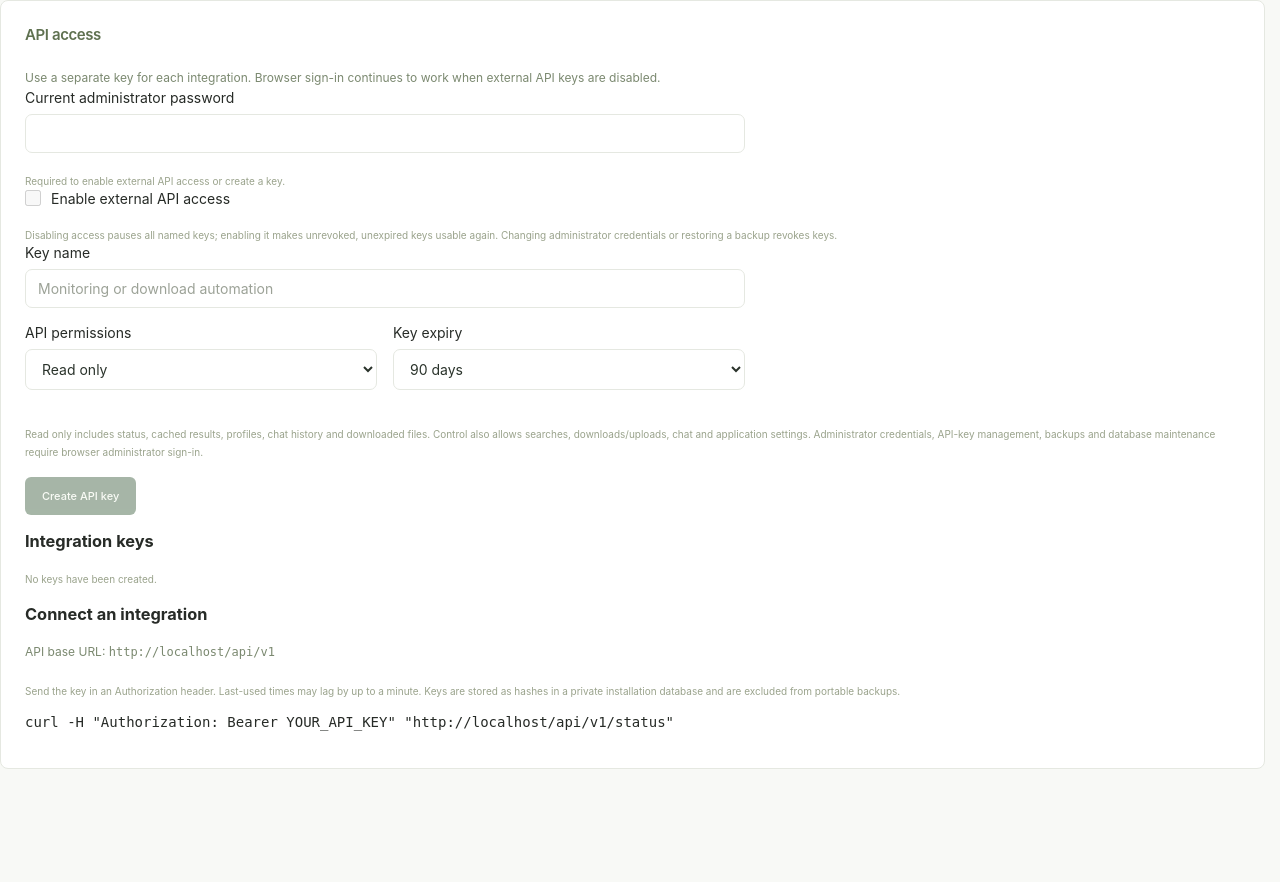
Scenario: configures access, creates a scoped expiring key shown once and revokes it
The width and height of the screenshot is (1280, 882).
Expected: the text "No keys have been created." is shown, top-left (25, 573), bottom-right (157, 585)
Expected: the button "Create API key" is disabled, top-left (25, 477), bottom-right (136, 515)
In the password field labelled "Current administrator password": (385, 133) top-left (25, 114), bottom-right (745, 153), type "eightpwd"
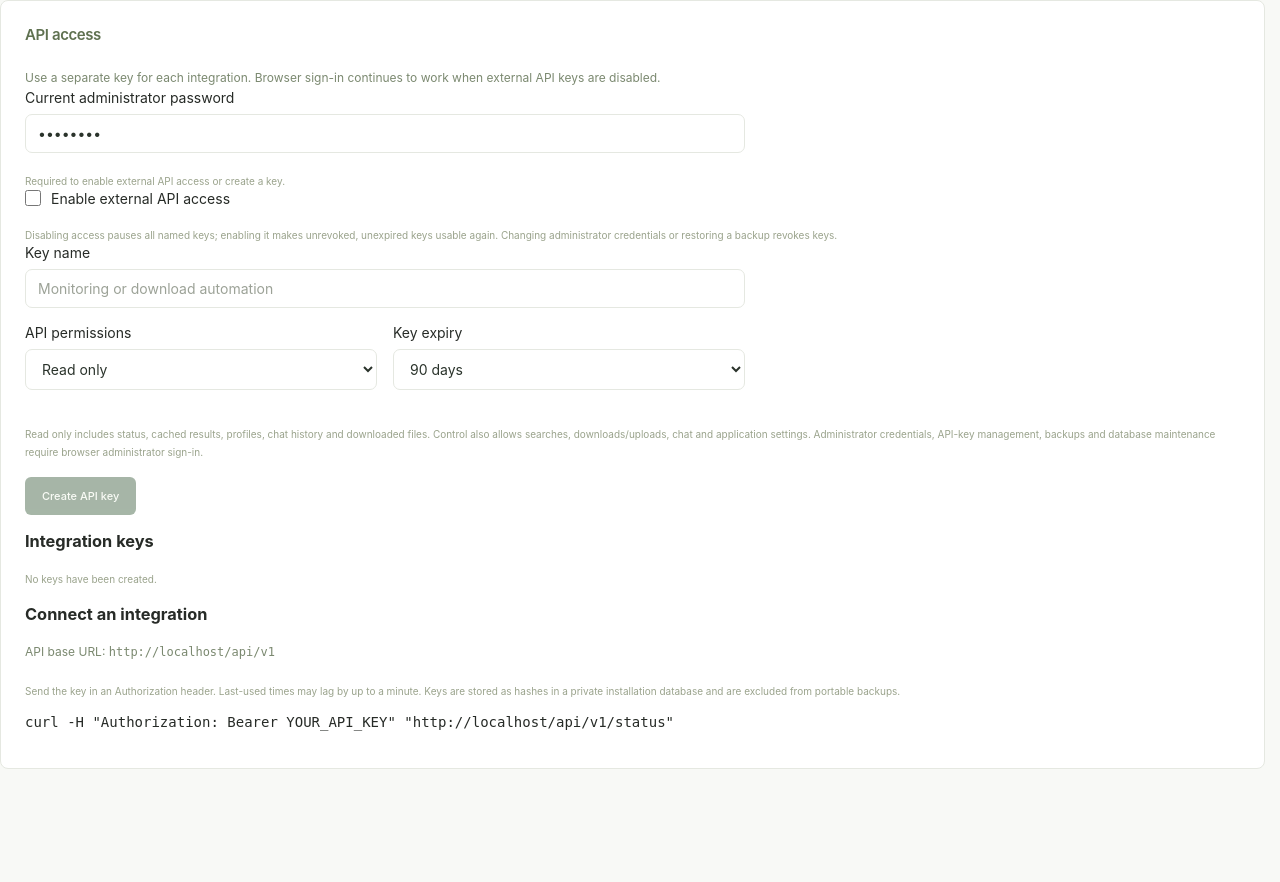
Click the checkbox labelled "Enable external API access": (33, 198) top-left (25, 190), bottom-right (41, 206)
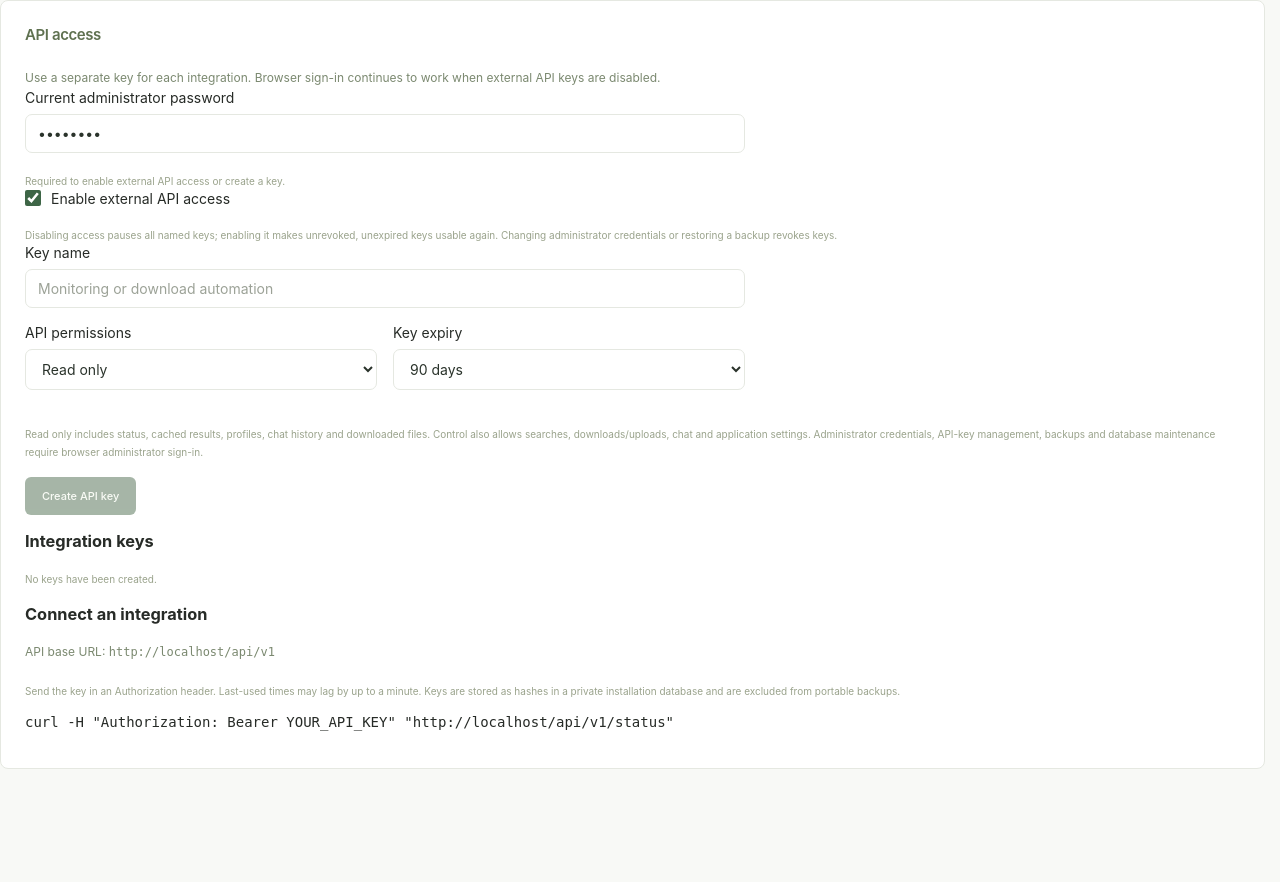
Expected: the checkbox labelled "Enable external API access" is checked, top-left (25, 190), bottom-right (41, 206)
In the field labelled "Key name": (385, 288) top-left (25, 269), bottom-right (745, 308), type "Monitoring"
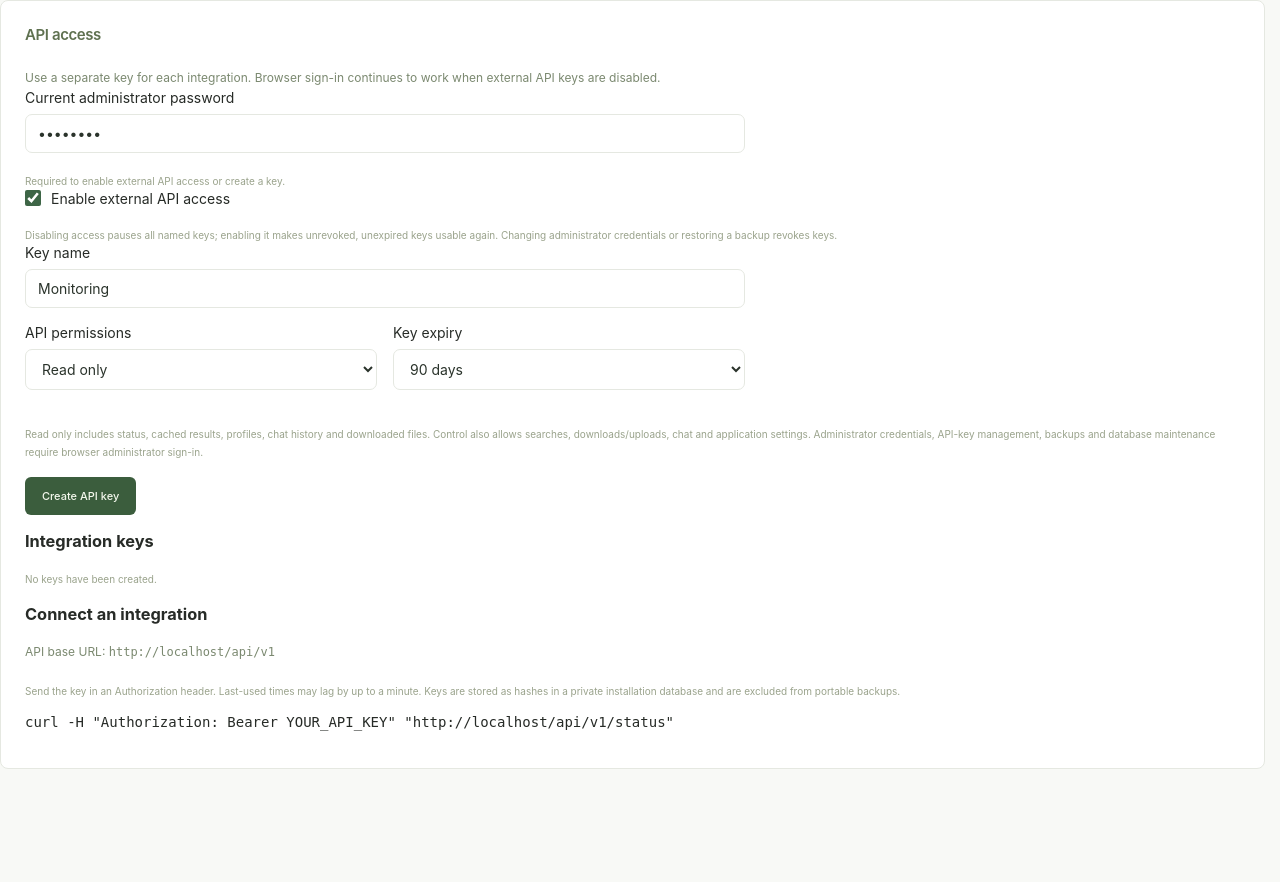
Click the button "Create API key": (81, 496) top-left (25, 477), bottom-right (136, 515)
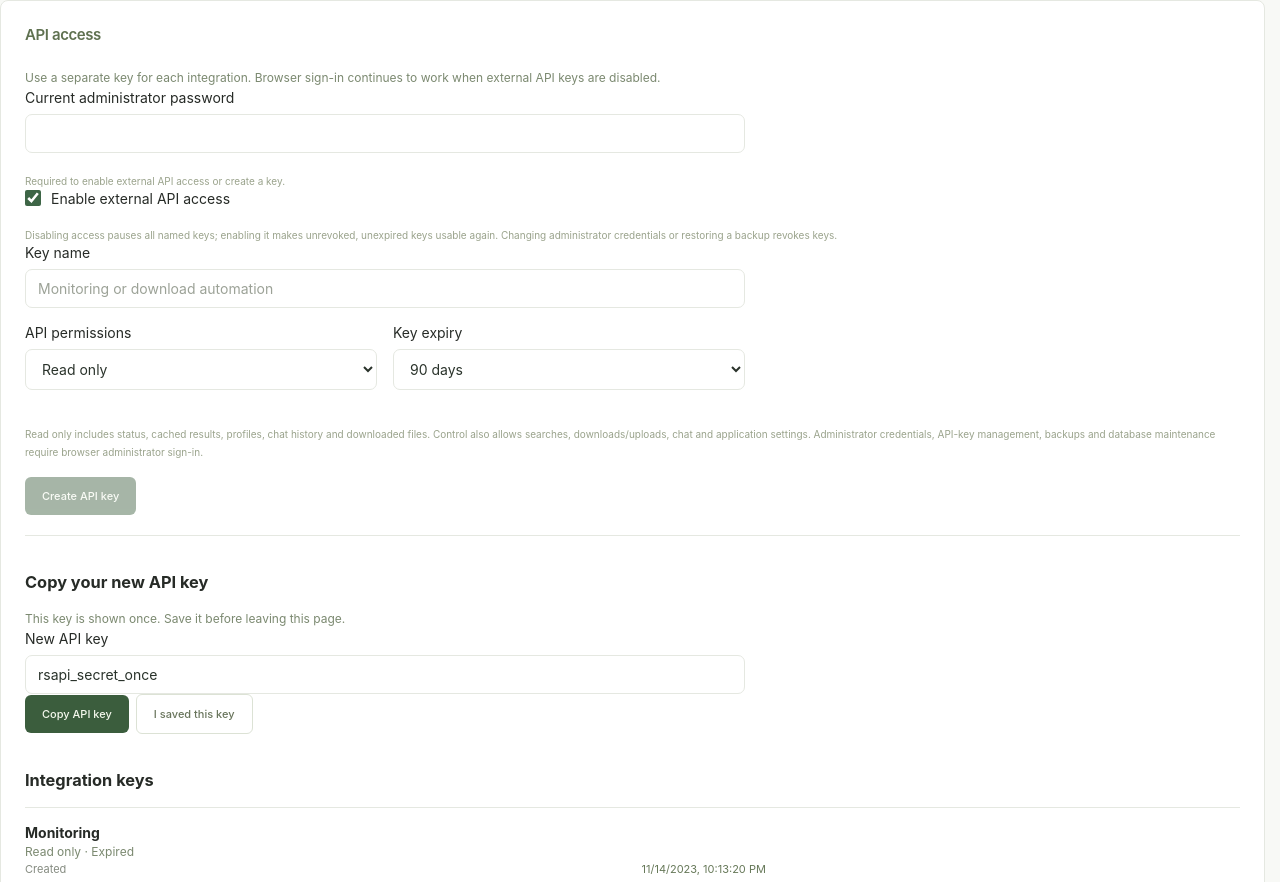
Expected: the field labelled "New API key" holds "rsapi_secret_once", top-left (25, 655), bottom-right (745, 694)
Expected: the password field labelled "Current administrator password" is empty, top-left (25, 114), bottom-right (745, 153)
Click the button "I saved this key": (194, 714) top-left (136, 694), bottom-right (252, 734)
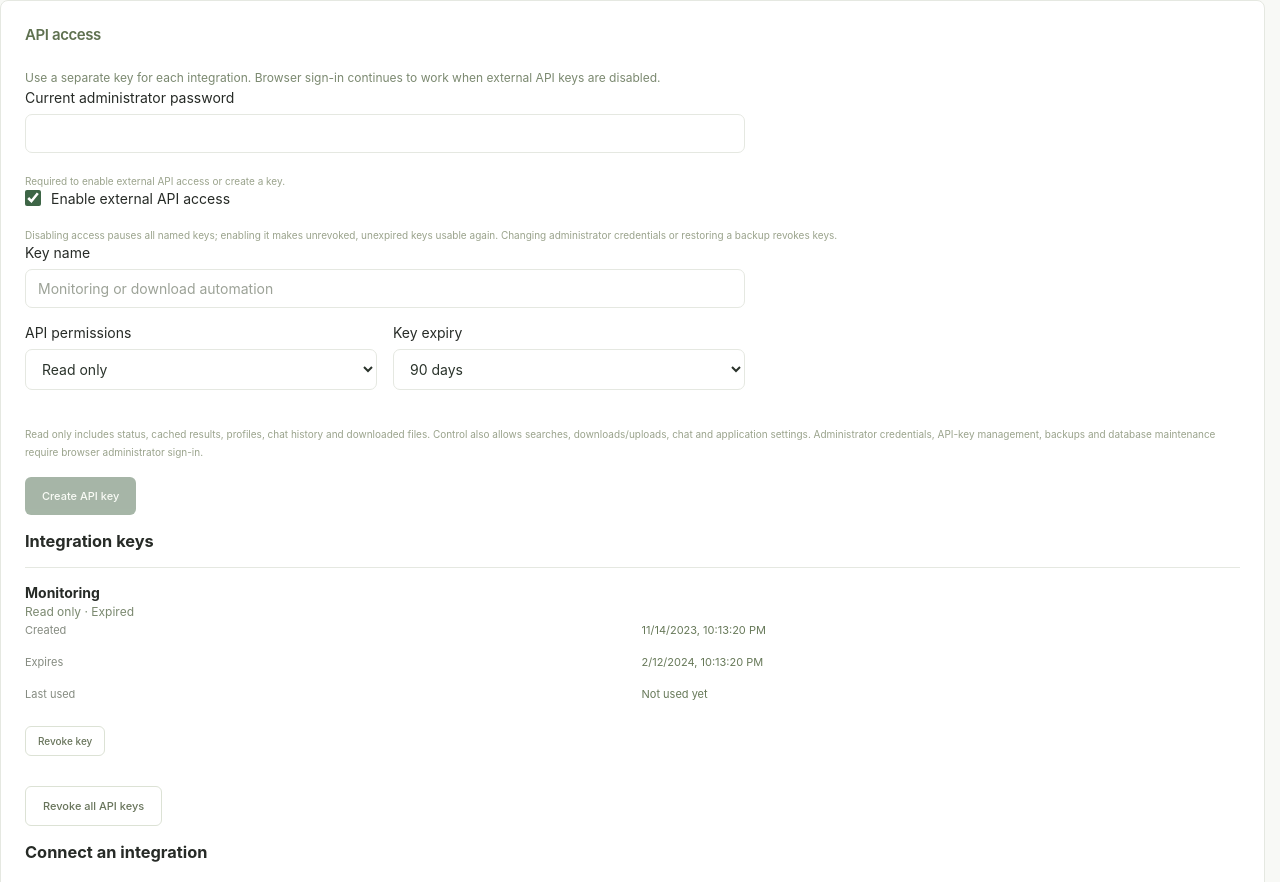
Expected: the heading labelled "new API key" is gone
Click the button with aria-label "Revoke key Monitoring": (65, 741) top-left (25, 726), bottom-right (105, 756)
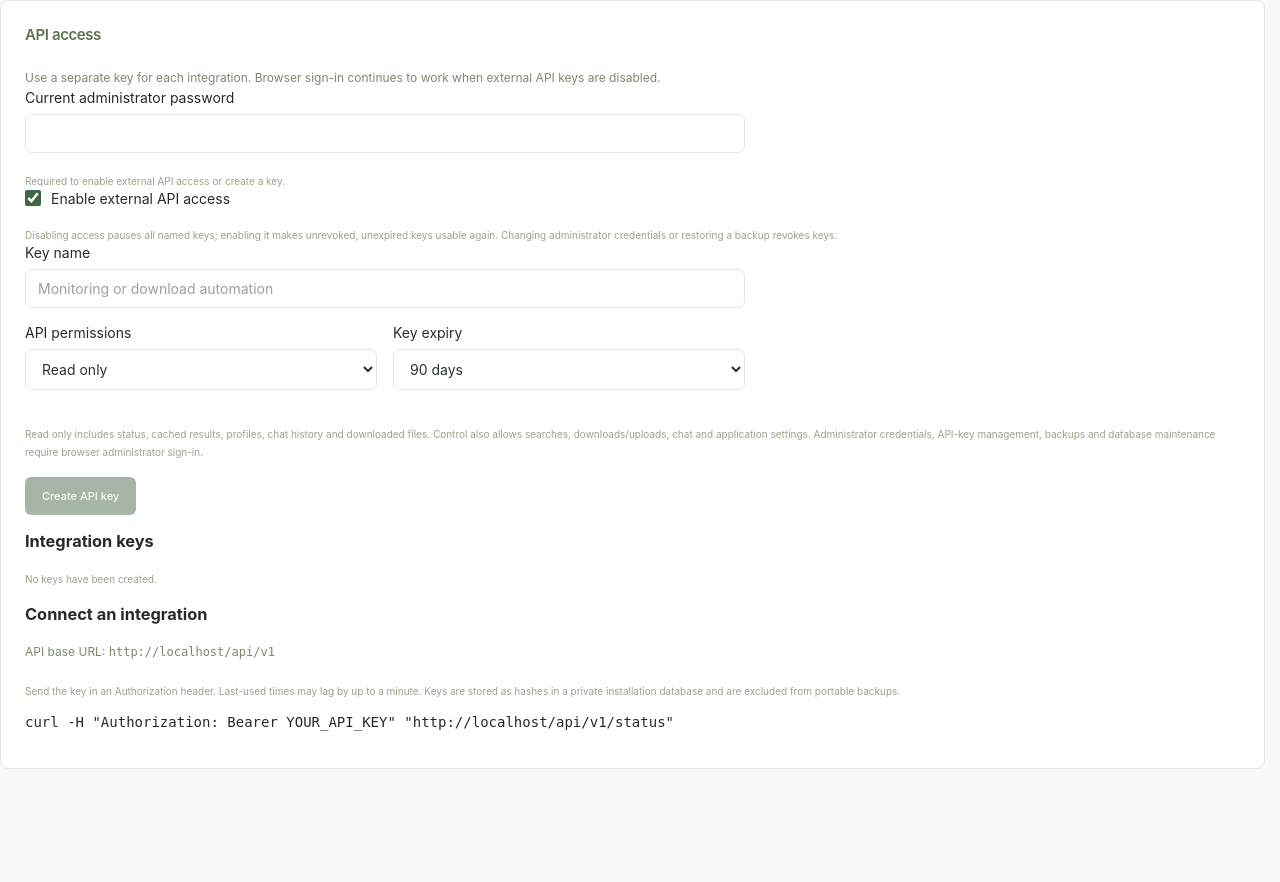
Expected: the text "No keys have been created." is shown, top-left (25, 573), bottom-right (157, 585)
